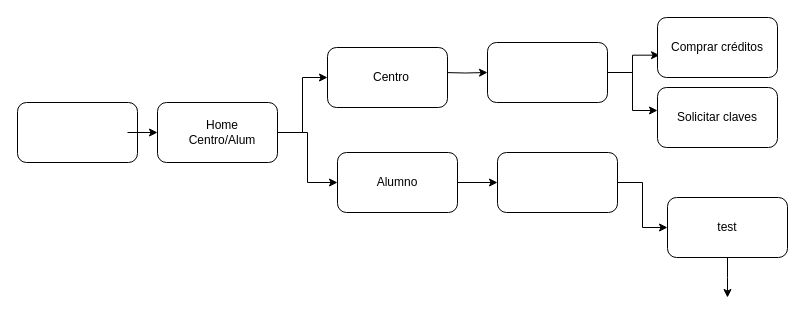
This 805x323 diagram has some shape labels left out. Each missing label, with the box of its shape:
Index welcome: (16, 102, 138, 162)
Key test: (496, 152, 618, 212)
Login o registro: (486, 42, 608, 102)
